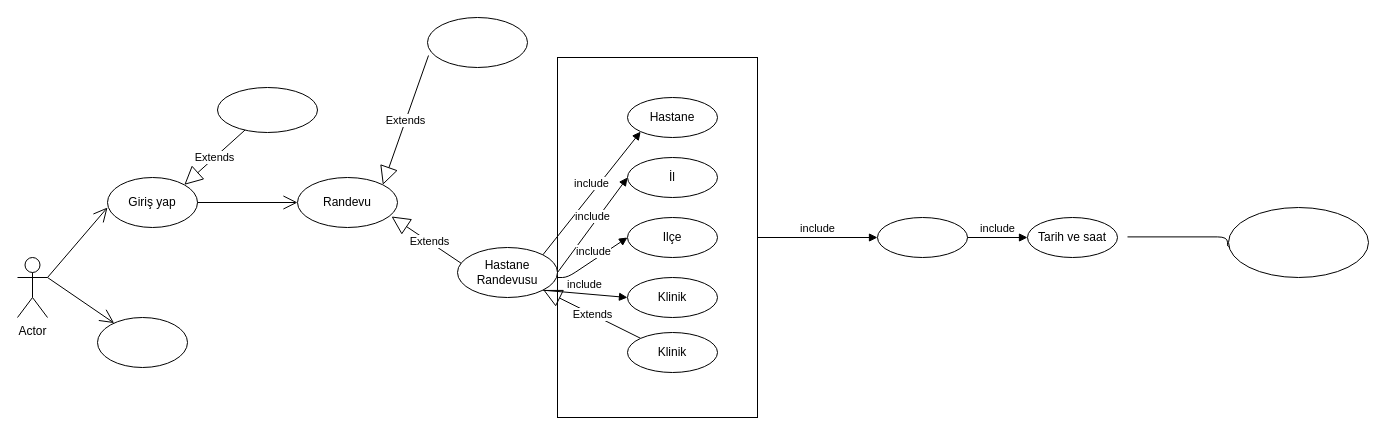
Some shapes in this 1386 by 435 pixel diagram are drawn without their labels. The centre of each missing label's shape, as x and y in pixels:
Aile hekiminden: pixel 477 42
E-Devletle giriş: pixel 267 109
Hekim Seç: pixel 922 237
Randevu alındı Çıkış: pixel 1298 242
Üye ol: pixel 142 342
